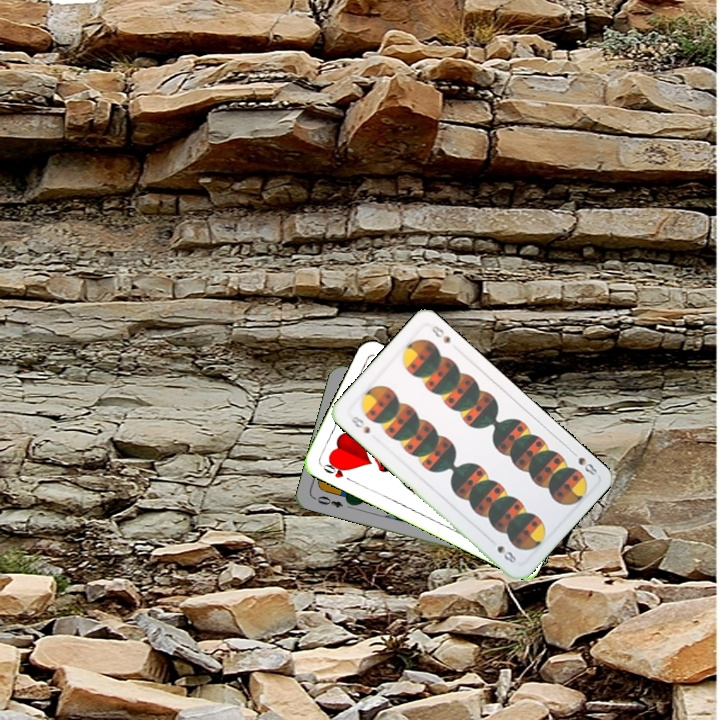EO: (310, 492, 346, 510)
HO: (317, 457, 355, 484)
S8: (566, 446, 600, 478), (347, 412, 373, 436)
